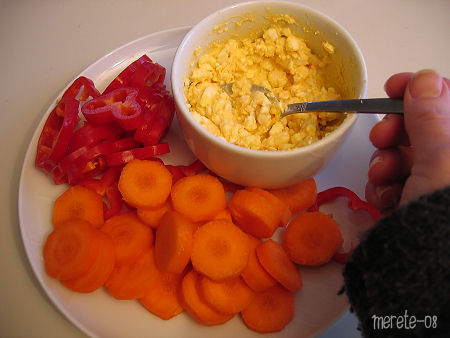egg: (184, 23, 343, 149)
